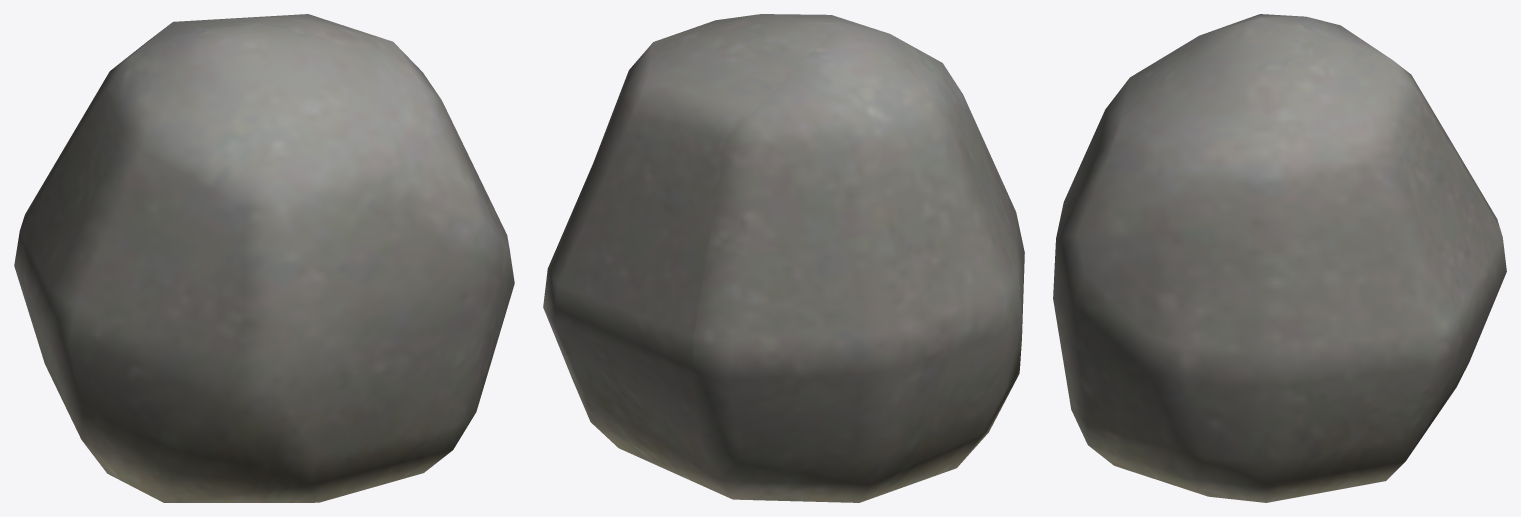
File: UnitIconStone.glb
3 views of the same model, side by side, from view 1: azimuth 30°, elevation 25°; view 2: azimuth 150°, elevation 25°; view 3: azimuth 270°, elevation 25° (orthographic). The views are drawn at different scales.
Parts seen in each view (by area): view 1: Body__mBody; view 2: Body__mBody; view 3: Body__mBody.
Part boxes in pixels (x1,y1,x2,y2): Body__mBody: (14, 14, 514, 502); Body__mBody: (543, 14, 1024, 502); Body__mBody: (1053, 14, 1506, 502).
Size of the model in its own units: 3.27 by 3 by 3.15.
Materials: 1 (1 with a texture image).
